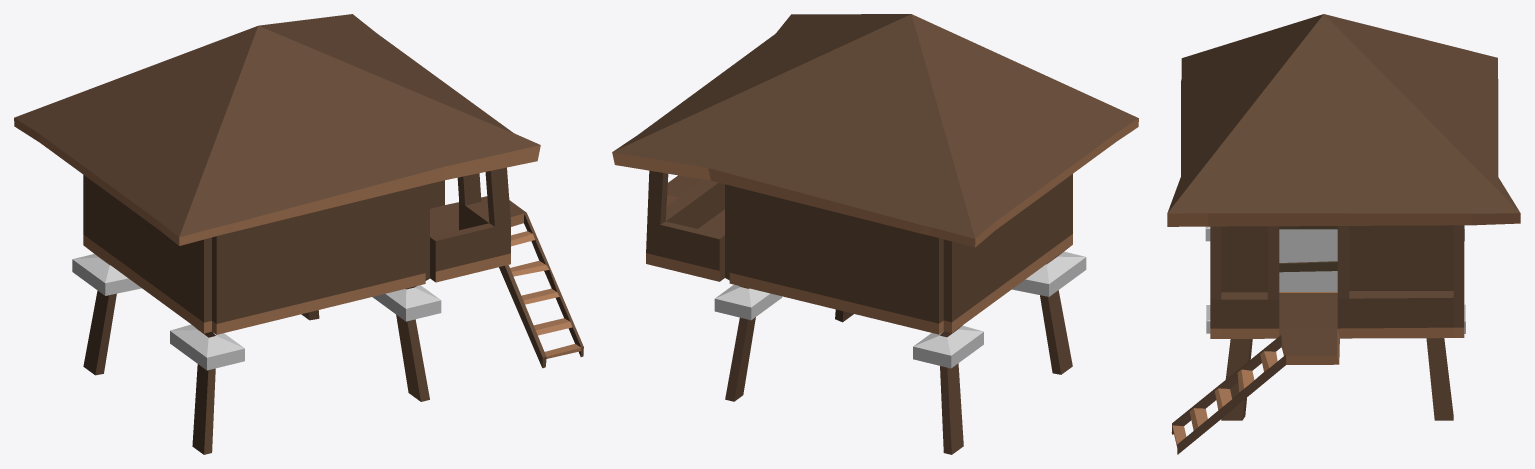
Rendered from semender.fbx.
3 renders of one model, left to right at view 1: azimuth 30°, elevation 25°; view 2: azimuth 150°, elevation 25°; view 3: azimuth 270°, elevation 25°, orthographic. The views are drawn at different scales.
Parts seen in each view (by area): view 1: Cube; view 2: Cube; view 3: Cube, Cube.001.
Part boxes in pixels (<box>): Cube: <box>14,14,583,454</box>; Cube: <box>612,14,1138,454</box>; Cube: <box>1167,14,1520,454</box>; Cube.001: <box>1279,226,1337,291</box>.
Bounding box in the file's own units: 2191 × 1889 × 1725.
